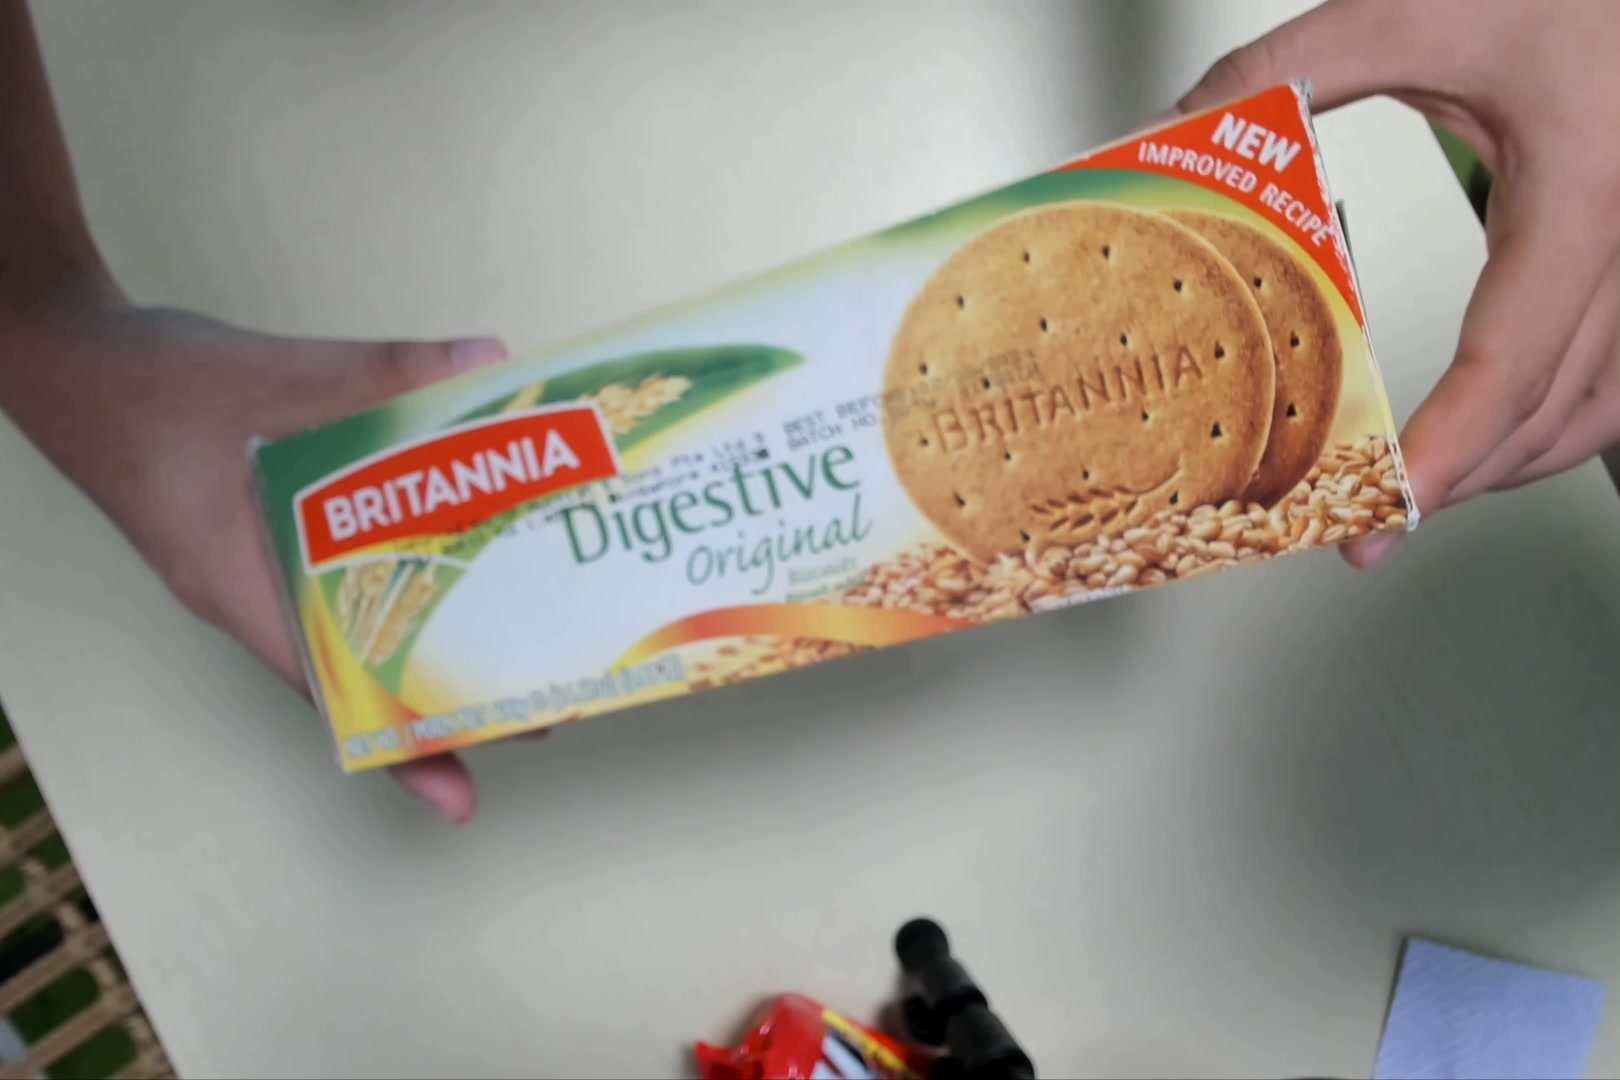BiscuitsCrackersCookies_400-499g_NonHalal_NonHealthy: (237, 89, 1427, 786)
